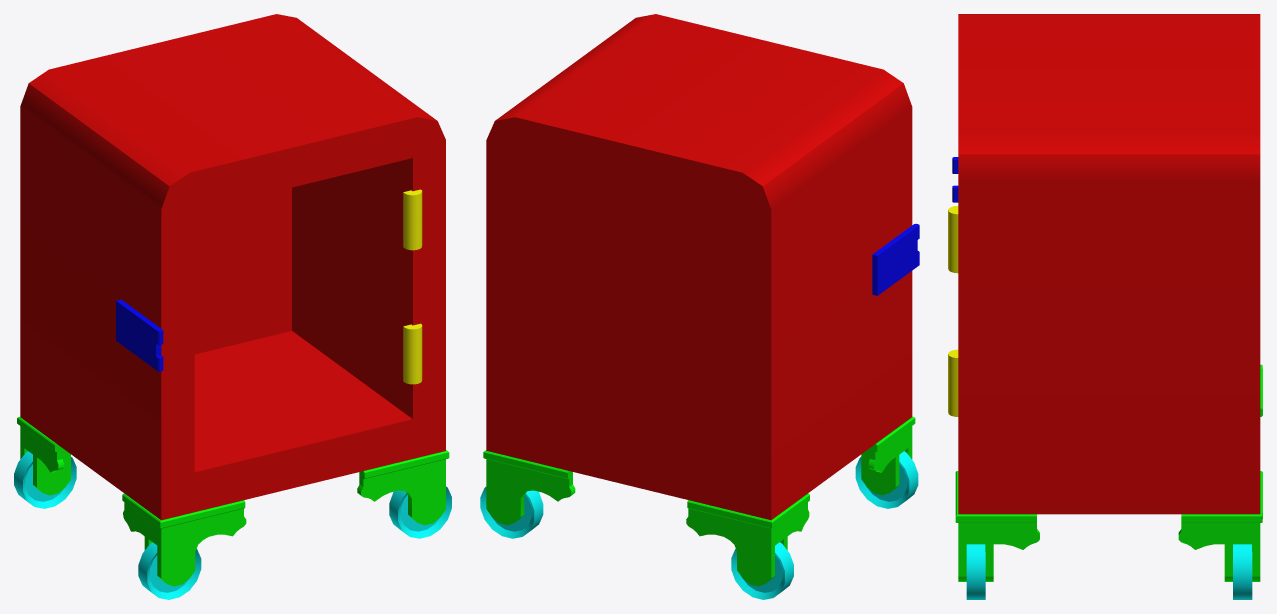
Rendered from Abbie - Safe.fbx.
The picture shows the model from 3 angles, left to right: view 1: azimuth 30°, elevation 25°; view 2: azimuth 150°, elevation 25°; view 3: azimuth 270°, elevation 25°; orthographic projection. The views are drawn at different scales.
Parts seen in each view (by area): view 1: safeBody; view 2: safeBody; view 3: safeBody.
Part boxes in pixels (x1,y1,x2,y2): safeBody: (14, 14, 451, 599); safeBody: (480, 14, 919, 599); safeBody: (948, 14, 1262, 599).
Bounding box in the file's own units: 0.7487 × 1 × 0.625.
